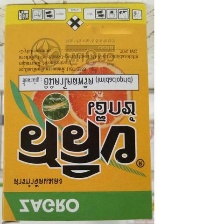book: (0, 1, 154, 224)
